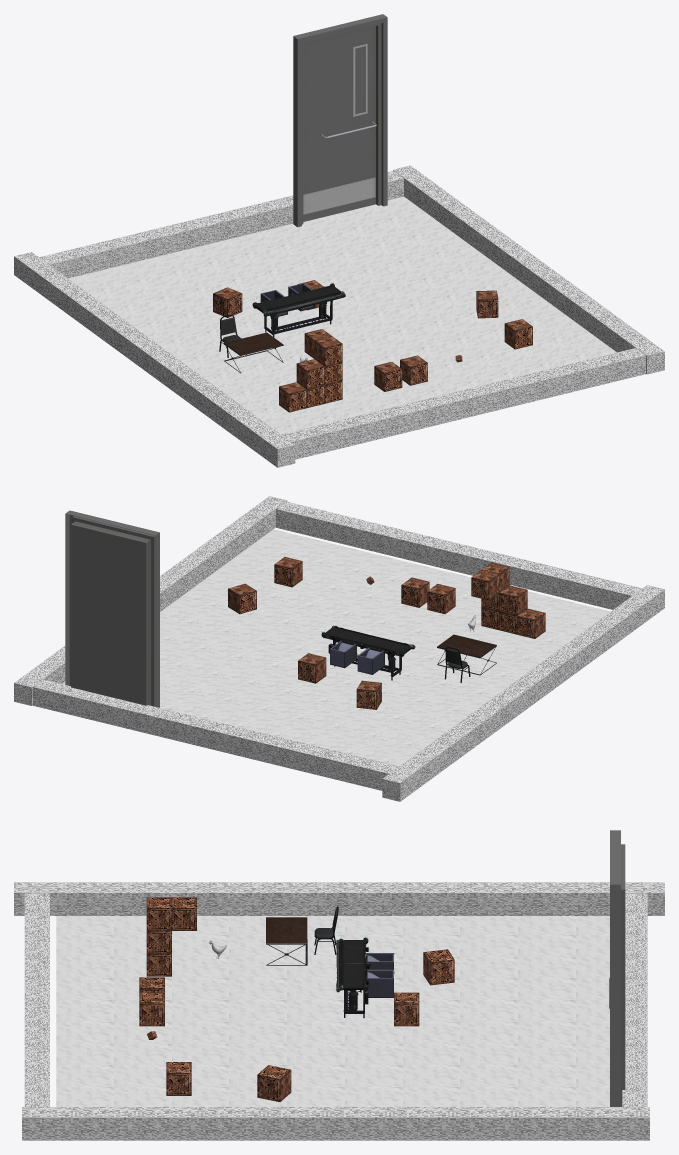
3 renders of one model, top to bottom at view 1: azimuth 30°, elevation 25°; view 2: azimuth 150°, elevation 25°; view 3: azimuth 270°, elevation 25°, orthographic. The views are drawn at different scales.
Parts seen in each view (by area): view 1: Floor, Object_3, Wall.002, Wall.003, Wall.001, Wall.004, world_0, Miza, Box.003, Box.000, Box.006, Box.011 (+3 smaller); view 2: Floor, Object_3, Wall.004, Wall.003, Wall.002, Wall.001, world_0, Miza, Box.006, Box.000, Box.001, Box.004 (+5 smaller); view 3: Floor, Wall.001, Wall.003, Wall.002, Wall.004, Object_3, world_0, Miza, Box.004, Box.003, Box.002, Box.013 (+5 smaller).
Boxes of the visible parts, box(x1,y1,x2,y2) form: Floor: box(68, 196, 616, 434); Object_3: box(293, 14, 387, 227); Wall.002: box(281, 348, 645, 459); Wall.003: box(14, 252, 295, 467); Wall.001: box(393, 165, 664, 374); Wall.004: box(39, 170, 403, 278); world_0: box(252, 283, 345, 337); Miza: box(224, 332, 283, 373); Box.003: box(213, 287, 242, 317); Box.000: box(504, 319, 532, 349); Box.006: box(296, 359, 324, 389); Box.011: box(374, 362, 402, 391); Floor: box(62, 529, 610, 766); Object_3: box(65, 510, 159, 707); Wall.004: box(33, 679, 398, 790); Wall.003: box(382, 585, 664, 801); Wall.002: box(276, 501, 641, 609); Wall.001: box(14, 496, 287, 705); world_0: box(321, 625, 415, 680); Miza: box(437, 634, 496, 675); Box.006: box(499, 585, 527, 615); Box.000: box(274, 557, 302, 587); Box.001: box(517, 608, 545, 638); Box.004: box(228, 583, 256, 614); Floor: box(56, 916, 609, 1106); Wall.001: box(22, 1107, 649, 1140); Wall.003: box(14, 882, 664, 915); Wall.002: box(24, 893, 49, 1106); Wall.004: box(622, 893, 647, 1106); Object_3: box(609, 830, 625, 1106); world_0: box(336, 937, 394, 1017); Miza: box(266, 917, 307, 965); Box.004: box(257, 1065, 291, 1101); Box.003: box(423, 949, 454, 985); Box.002: box(139, 992, 164, 1026); Box.013: box(394, 992, 419, 1026).
Bounding box in the file's own units: 43.81 × 20.38 × 51.2.
